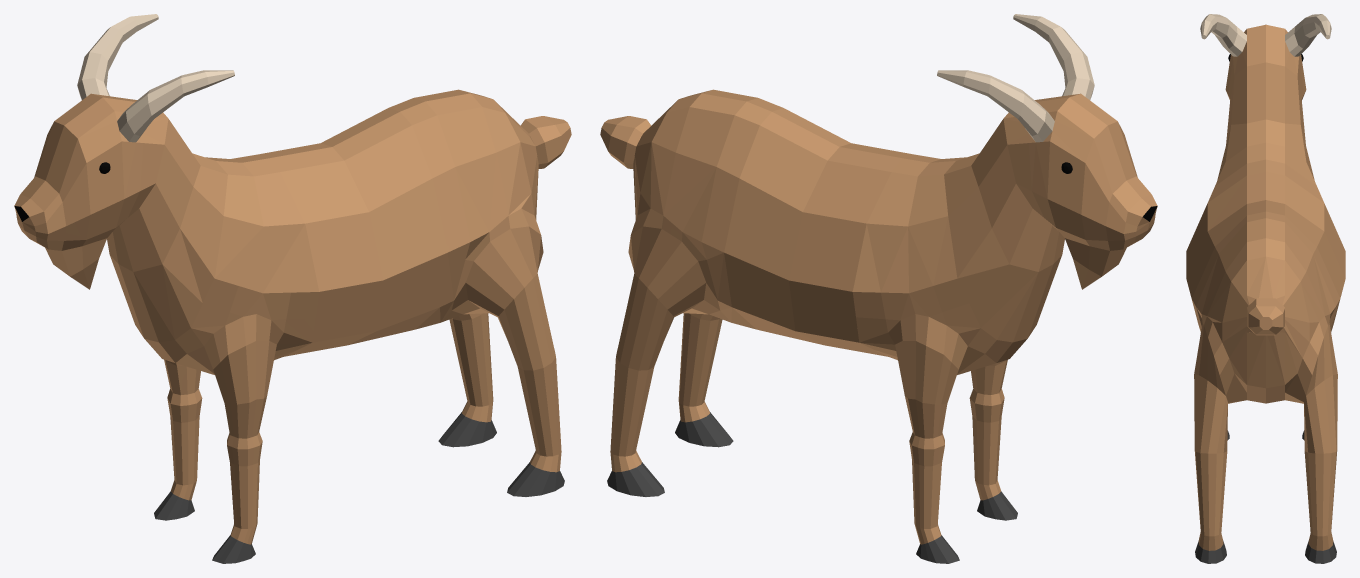
3 renders of one model, left to right at view 1: azimuth 30°, elevation 25°; view 2: azimuth 150°, elevation 25°; view 3: azimuth 270°, elevation 25°, orthographic. The views are drawn at different scales.
Parts seen in each view (by area): view 1: Plane; view 2: Plane; view 3: Plane.
Boxes of the visible parts, <box> form: Plane: <box>14,14,571,563</box>; Plane: <box>600,14,1157,563</box>; Plane: <box>1186,14,1345,563</box>.
Bounding box in the file's own units: 3.99 × 3.48 × 1.25.
